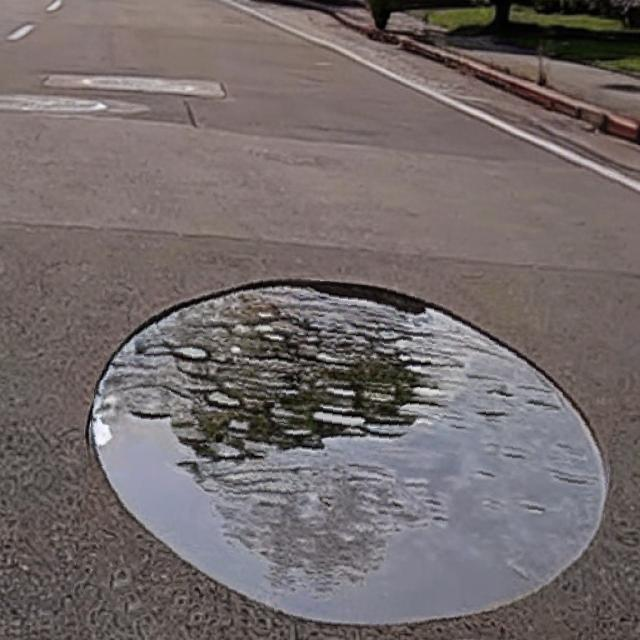puddle: (82, 272, 618, 639)
